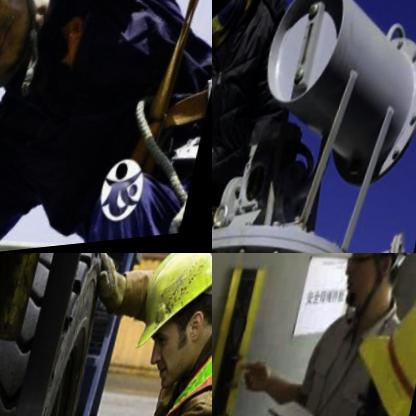helmet: (110, 253, 212, 409), (338, 277, 416, 416), (328, 253, 416, 333)
